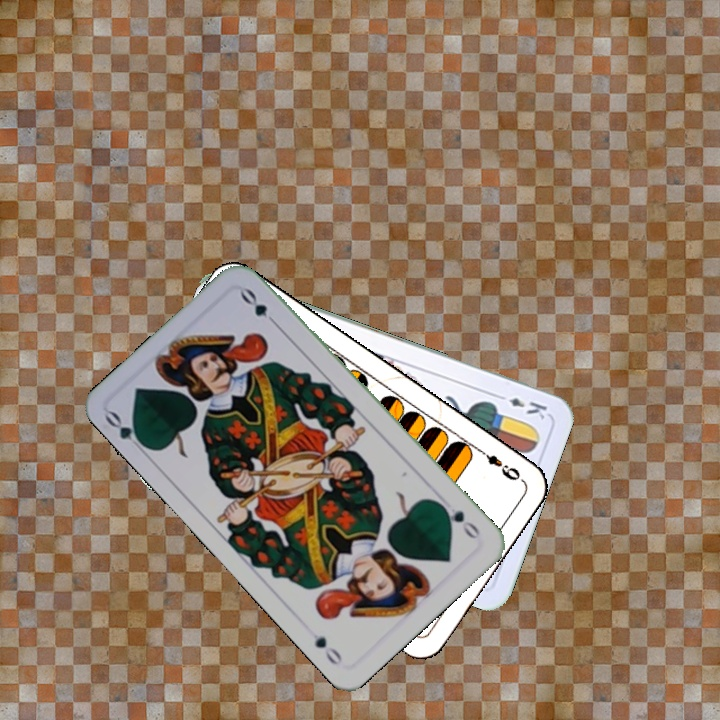E9: (474, 444, 525, 484)
EK: (492, 390, 550, 422)
GO: (101, 407, 151, 457), (435, 499, 483, 542)
